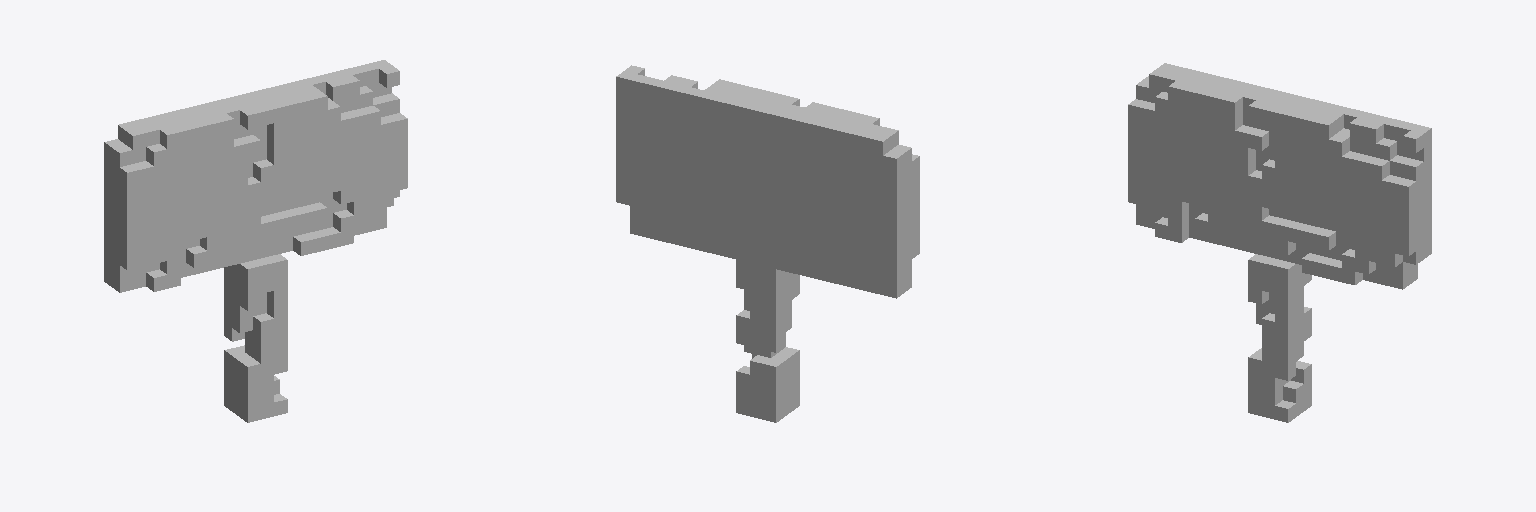
File: Cartel.obj
3 views of the same model, side by side, from view 1: azimuth 30°, elevation 25°; view 2: azimuth 150°, elevation 25°; view 3: azimuth 330°, elevation 25° (orthographic).
Visible parts, largest first — view 1: object 1; view 2: object 1; view 3: object 1.
Boxes of the visible parts, x1,y1,x2,y2 form: object 1: [104, 60, 407, 422]; object 1: [616, 65, 919, 422]; object 1: [1128, 63, 1431, 422].
Bounding box in the file's own units: 2.1 × 2.2 × 0.3.